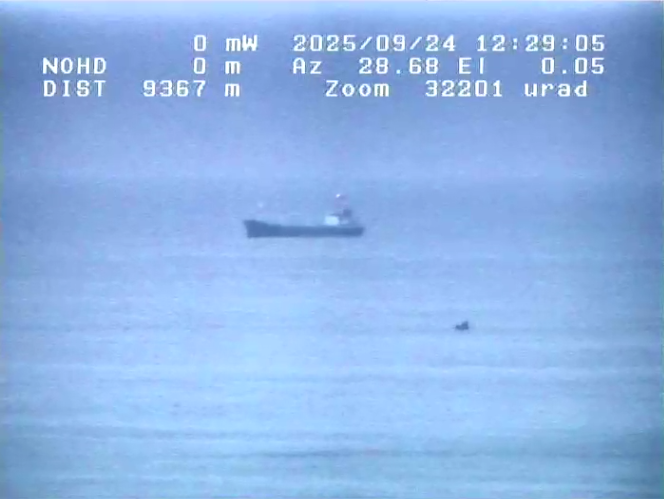TANKER: (233, 185, 391, 253)
